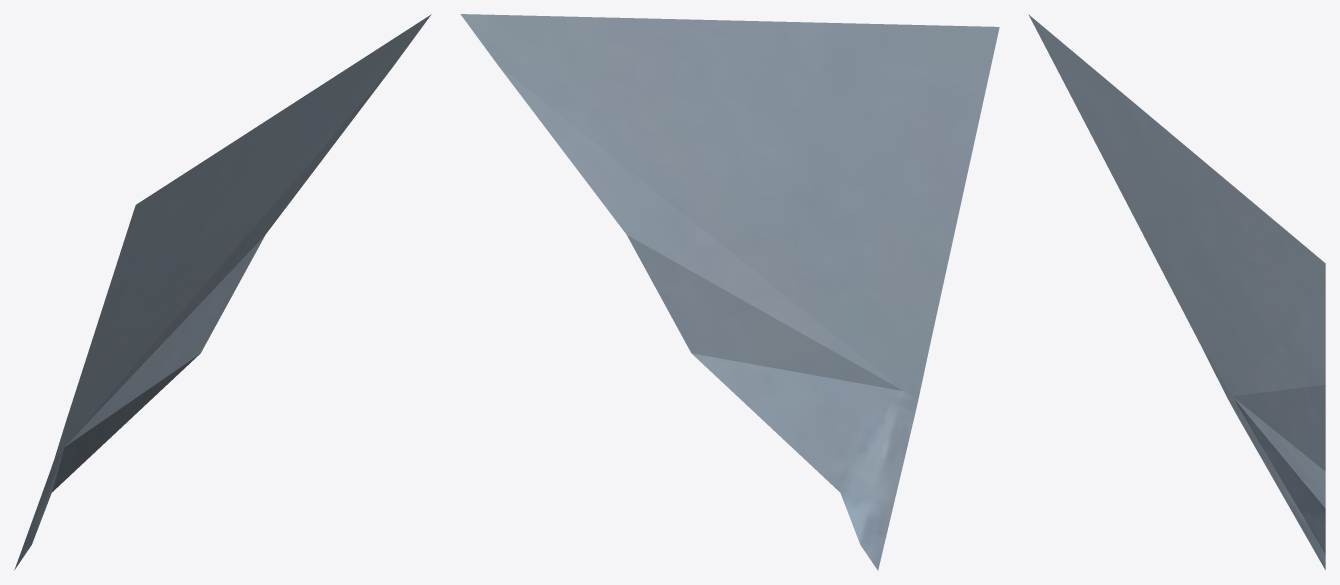
3 views of the same model, side by side, from view 1: azimuth 30°, elevation 25°; view 2: azimuth 150°, elevation 25°; view 3: azimuth 270°, elevation 25° (orthographic). The views are drawn at different scales.
Bounding box in the file's own units: 0.6371 × 0.663 × 0.3211.
Materials: 1 (1 with a texture image).
